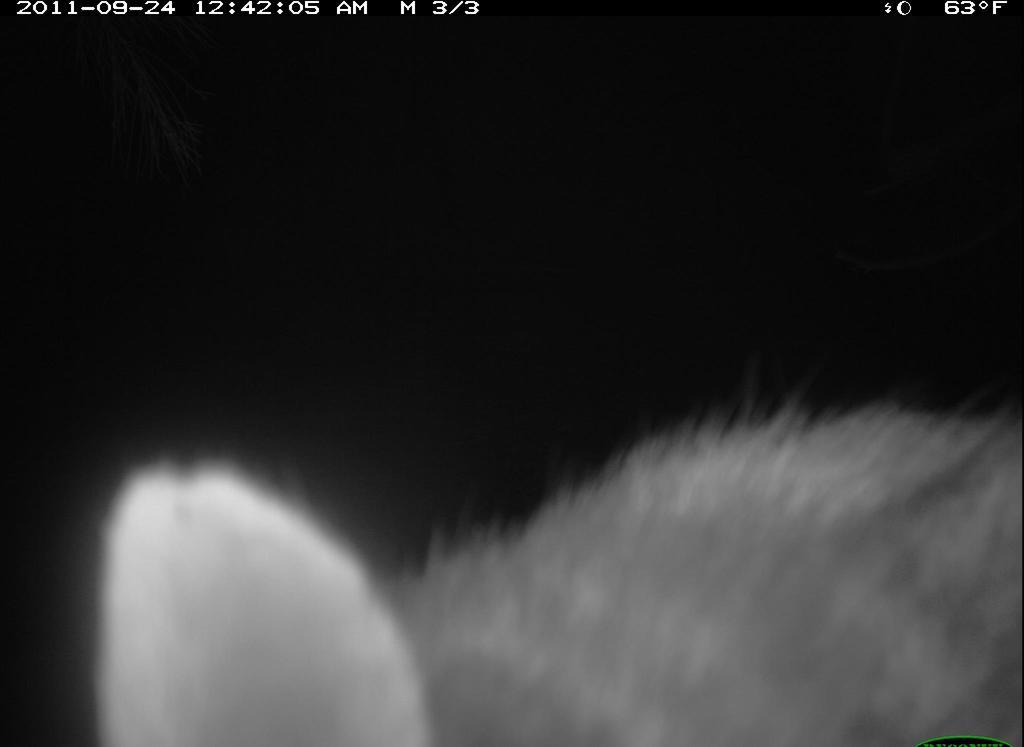raccoon: (35, 365, 1019, 745)
